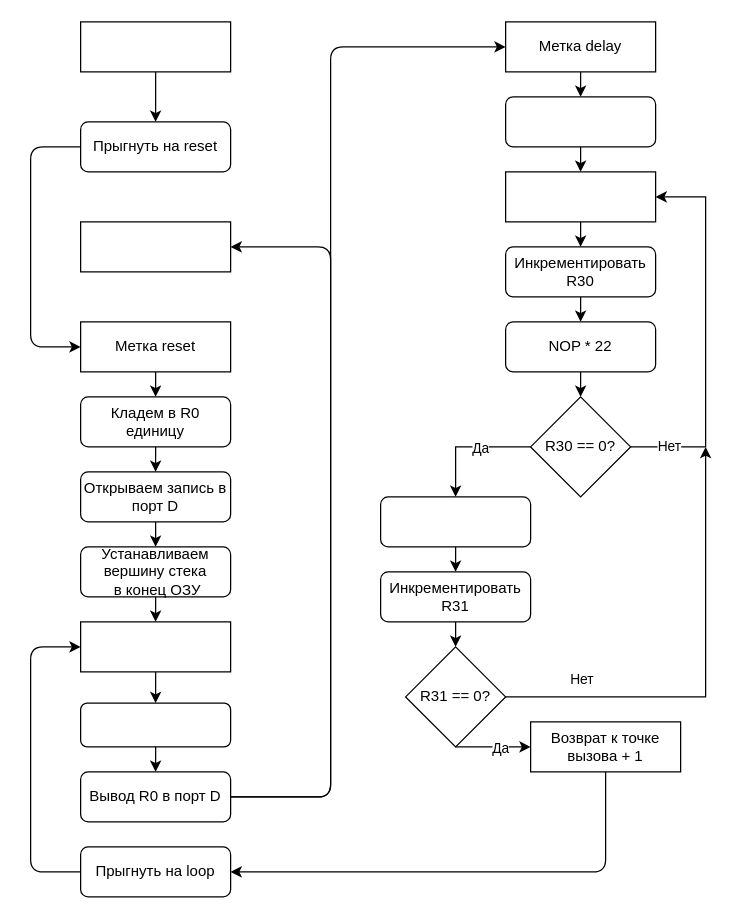
Image size: 738x919. Some labels were removed from this diagram. The shapes that lost their labels are listed below. From the top down, each one's centre as x and y in pixels, then its label:
At (x=155, y=46): "Начало программы".
At (x=580, y=121): "Установить начальные значения регистров".
At (x=580, y=196): "Метка delay_sub".
At (x=155, y=246): "Метка delay и подпрограмма задержки".
At (x=455, y=521): "NOP".
At (x=155, y=646): "Метка loop".
At (x=155, y=724): "Циклический сдвиг R0 вправо".
